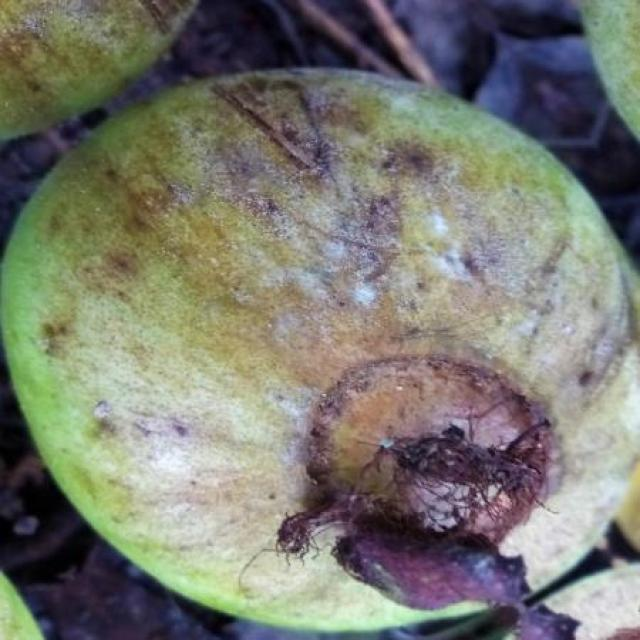Styler and Root: (36, 76, 630, 469)
